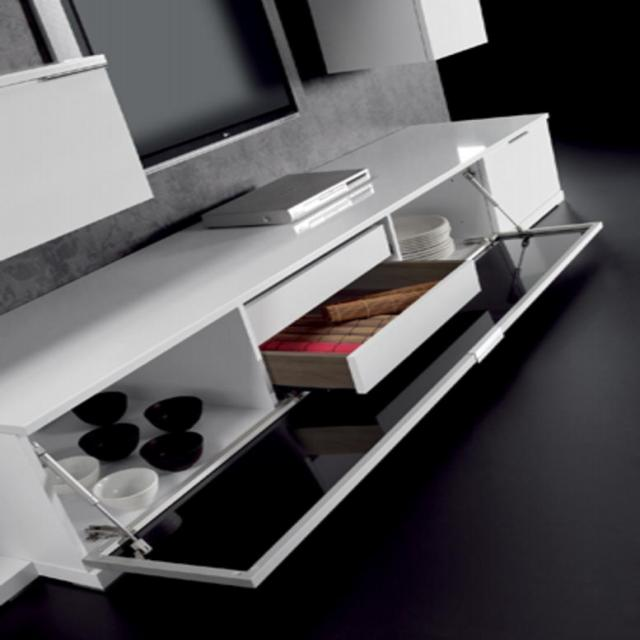table: (25, 149, 577, 621)
